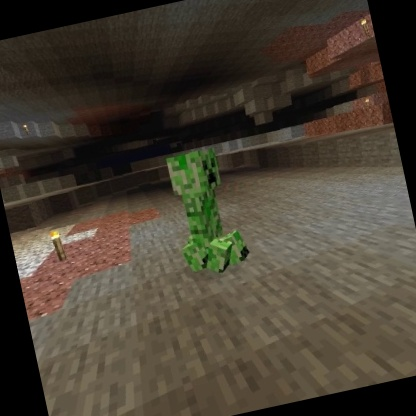creeper: (158, 141, 255, 286)
